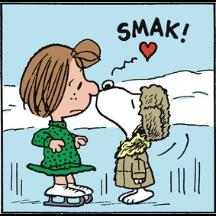snoopy: (94, 79, 172, 206)
